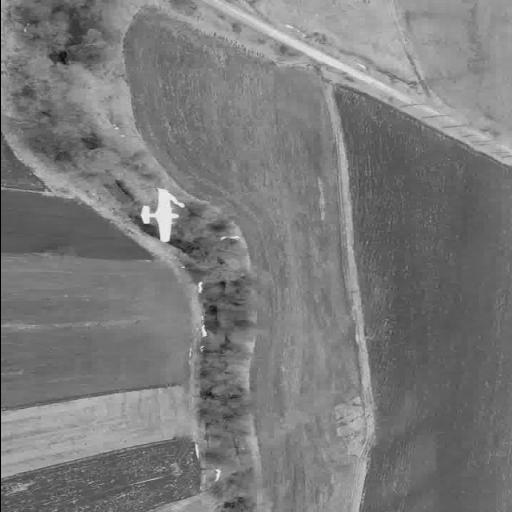uav: (134, 184, 186, 250)
